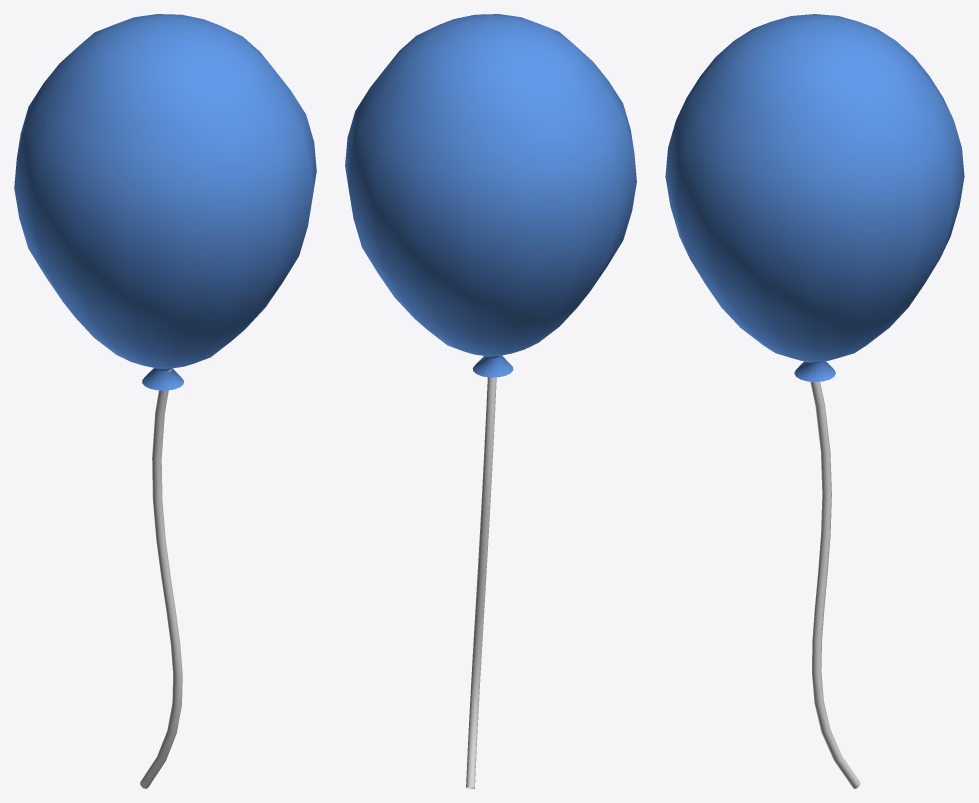
File: Balloon.glb
3 renders of one model, left to right at view 1: azimuth 30°, elevation 25°; view 2: azimuth 150°, elevation 25°; view 3: azimuth 270°, elevation 25°, orthographic. The views are drawn at different scales.
Visible parts, largest first — view 1: Sphere; view 2: Sphere; view 3: Sphere.
Boxes of the visible parts, x1,y1,x2,y2 form: Sphere: (14, 14, 316, 788); Sphere: (345, 14, 636, 788); Sphere: (665, 14, 964, 788).
Bounding box in the file's own units: 1.24 × 3.49 × 1.24.
